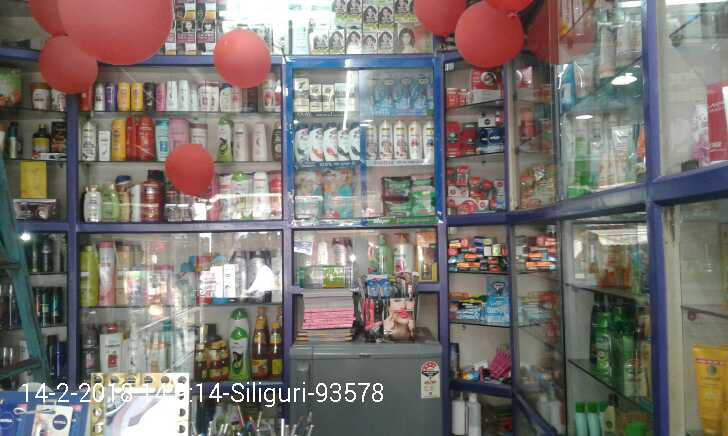gillete: (459, 300, 481, 322), (487, 127, 503, 152), (475, 127, 487, 152), (450, 292, 458, 320)
venus: (373, 73, 398, 117), (414, 75, 433, 116), (398, 73, 414, 116), (487, 297, 511, 323), (487, 277, 509, 294)
